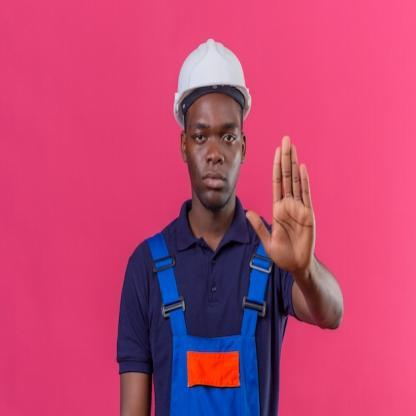stop: (242, 134, 318, 277)
